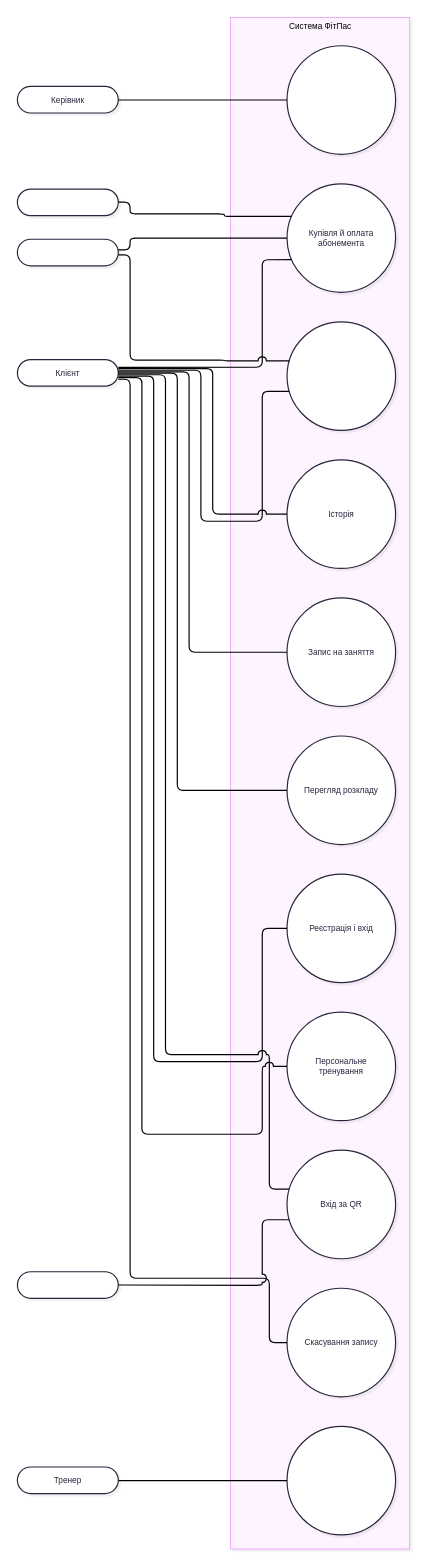
The diagram is 422 pixels wide and 1562 high, and some of its shapes have lost their labels. Each missing label, with the centre of its shape:
Адміністратор: (x=69, y=253)
Заморожування абонемента: (x=342, y=377)
Звіти: (x=342, y=101)
Платіжна система: (x=69, y=203)
Розклад і відмітки тренера: (x=342, y=1481)
Турнікет: (x=69, y=1286)
